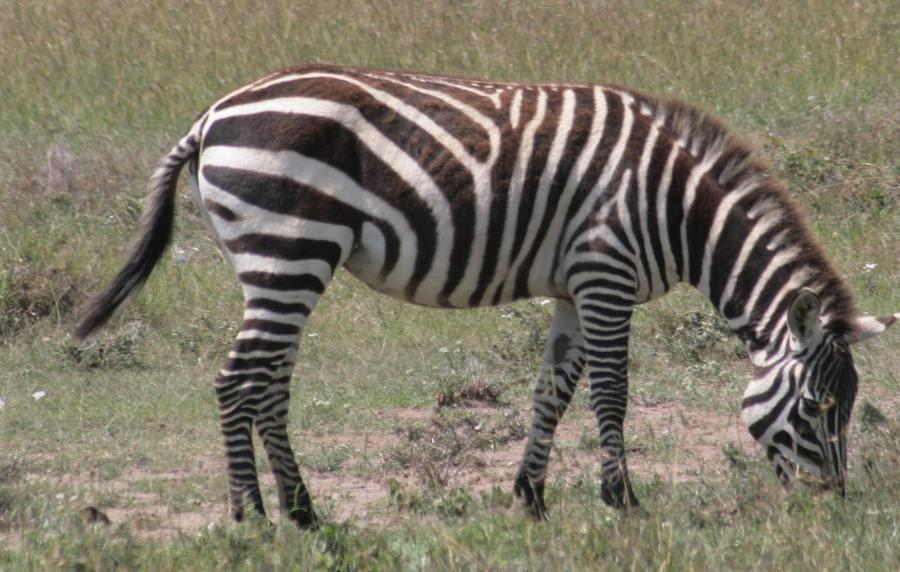zebra_plains: (213, 54, 680, 319)
